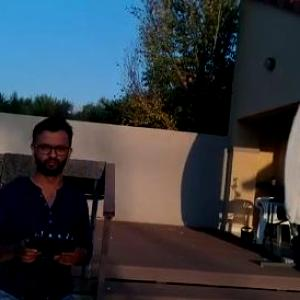follow: (0, 108, 97, 299)
